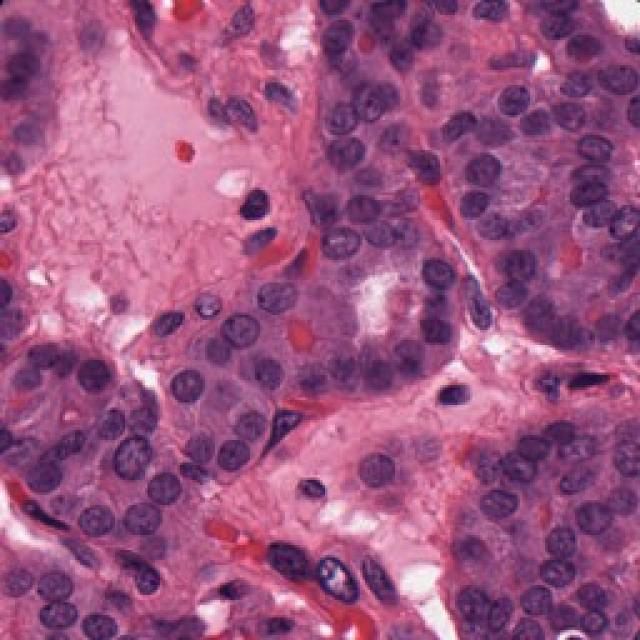abnormal: (300, 85, 377, 175), (447, 93, 537, 164), (303, 533, 377, 618), (208, 297, 286, 374), (449, 131, 523, 210), (100, 409, 168, 494), (445, 468, 523, 538), (478, 235, 546, 315), (350, 195, 426, 266), (541, 116, 619, 179), (306, 195, 364, 271), (553, 160, 629, 218), (335, 68, 389, 137), (592, 47, 640, 108), (311, 14, 364, 66)
